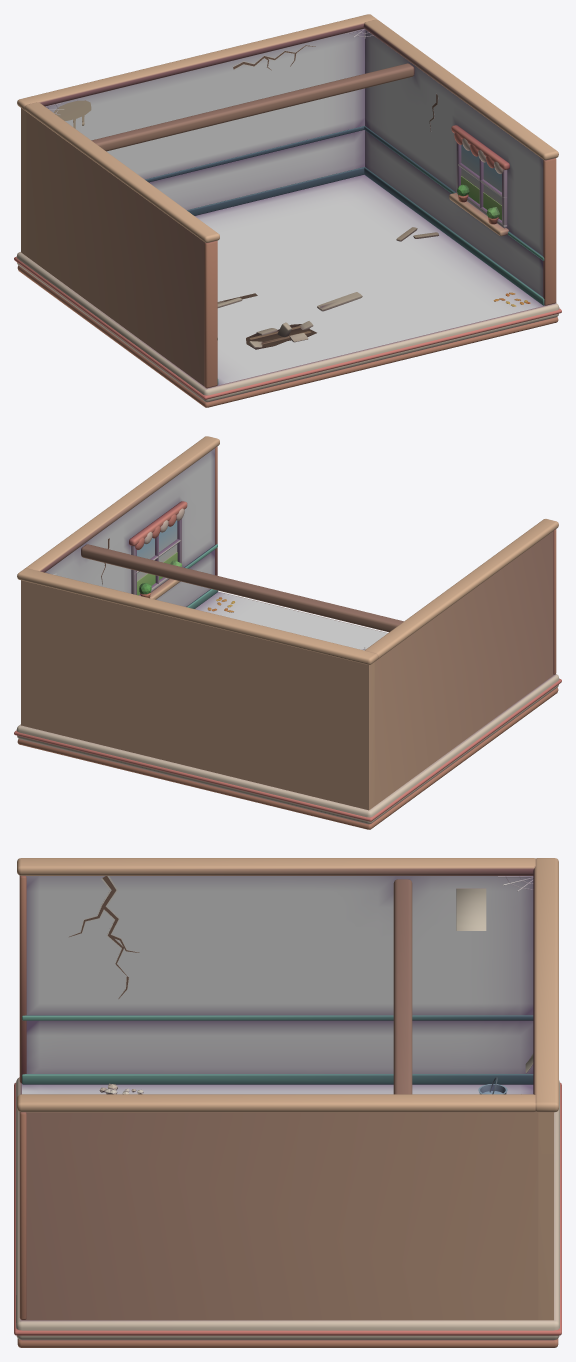
Rendered from shell.glb.
The picture shows the model from 3 angles, top to bottom: view 1: azimuth 30°, elevation 25°; view 2: azimuth 150°, elevation 25°; view 3: azimuth 270°, elevation 25°; orthographic projection. The views are drawn at different scales.
Visible parts, largest first — view 1: shell, wall, floor, beam, floor_dmg, glass, wall_dmg; view 2: shell, wall, beam, floor, glass; view 3: shell, wall, floor, beam, wall_dmg.
Part boxes in pixels (left/top/right/bottom): shell: left=14, top=14, right=561, bottom=407; wall: left=45, top=28, right=543, bottom=296; floor: left=195, top=175, right=544, bottom=385; beam: left=91, top=63, right=414, bottom=151; floor_dmg: left=217, top=227, right=530, bottom=349; glass: left=461, top=144, right=501, bottom=220; wall_dmg: left=45, top=29, right=438, bottom=131; shell: left=14, top=436, right=561, bottom=829; wall: left=45, top=448, right=214, bottom=606; beam: left=81, top=544, right=403, bottom=632; floor: left=195, top=592, right=387, bottom=650; glass: left=137, top=520, right=177, bottom=595; shell: left=14, top=858, right=561, bottom=1347; wall: left=26, top=876, right=533, bottom=1073; floor: left=22, top=1084, right=533, bottom=1094; beam: left=393, top=879, right=412, bottom=1094; wall_dmg: left=69, top=876, right=533, bottom=1094.
Bounding box in the file's own units: 8.22 × 3.77 × 7.62.
